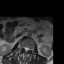CCS_normal: (25, 45, 27, 54)
LFS_stenosis: (29, 46, 31, 52)
LLS_normal: (27, 45, 29, 52)
RFS_stenosis: (22, 44, 24, 50)
RLS_normal: (23, 45, 25, 52)
